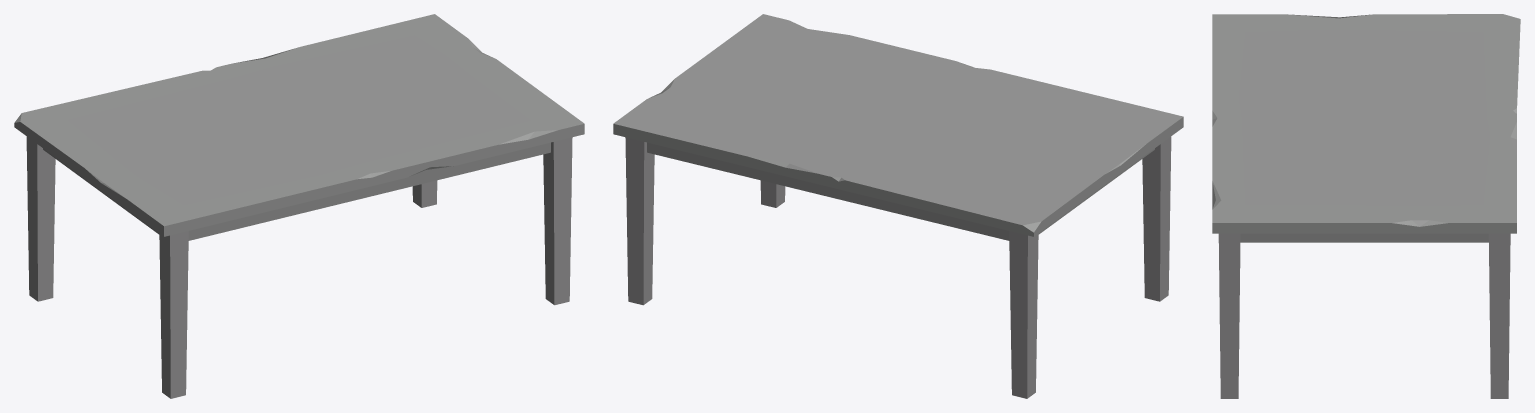
Rendered from SM_Prop_DiningTable_03.obj.
3 views of the same model, side by side, from view 1: azimuth 30°, elevation 25°; view 2: azimuth 150°, elevation 25°; view 3: azimuth 270°, elevation 25° (orthographic).
Parts seen in each view (by area): view 1: SM_Prop_DiningTable_03_Mat_SwatchOverlay_PolygonTown_01_Wood_Ins; view 2: SM_Prop_DiningTable_03_Mat_SwatchOverlay_PolygonTown_01_Wood_Ins; view 3: SM_Prop_DiningTable_03_Mat_SwatchOverlay_PolygonTown_01_Wood_Ins.
Part boxes in pixels (bbox=[...]): SM_Prop_DiningTable_03_Mat_SwatchOverlay_PolygonTown_01_Wood_Ins: bbox=[14, 14, 584, 398]; SM_Prop_DiningTable_03_Mat_SwatchOverlay_PolygonTown_01_Wood_Ins: bbox=[613, 14, 1183, 398]; SM_Prop_DiningTable_03_Mat_SwatchOverlay_PolygonTown_01_Wood_Ins: bbox=[1212, 14, 1520, 398].
Size of the model in its own units: 2.11 by 0.8528 by 1.31.
Materials: 1 (1 with a texture image).
